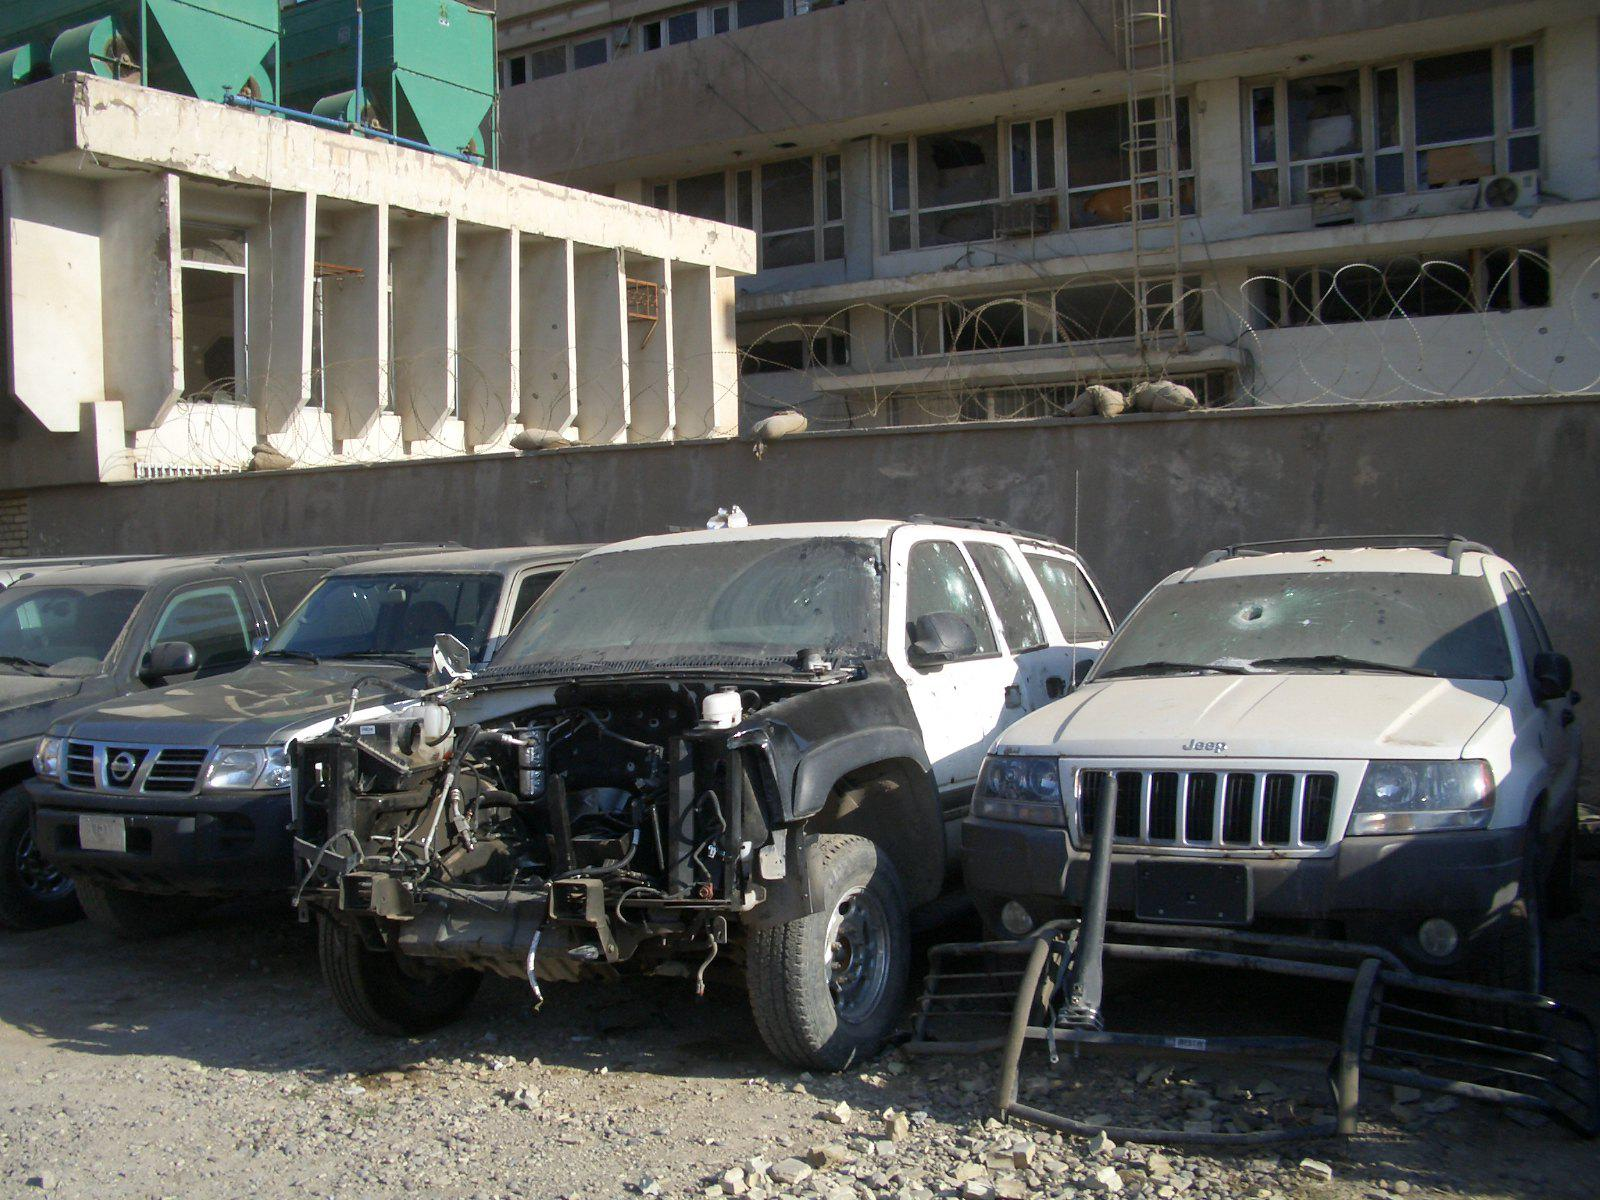front-bumper-dent: (351, 734, 808, 966), (968, 790, 1483, 933)
